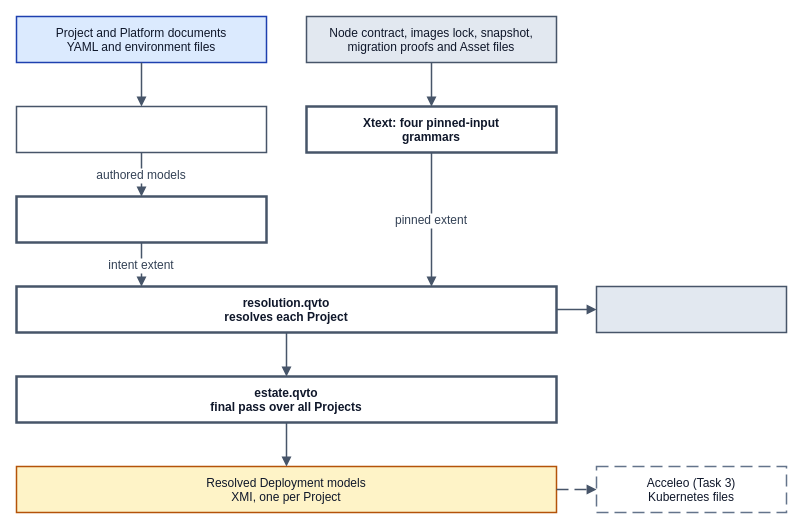
Image size: 803x529. Some labels were removed from this diagram. Here are the shapes that lost their labels. From the top down, the centre of each, then its label:
At pixel 141 129: "Xtext: Project and Platform grammars, OCL validation".
At pixel 141 219: "lower.qvto (extended) flattens each Project".
At pixel 691 309: "dependencies.json exporter output".
